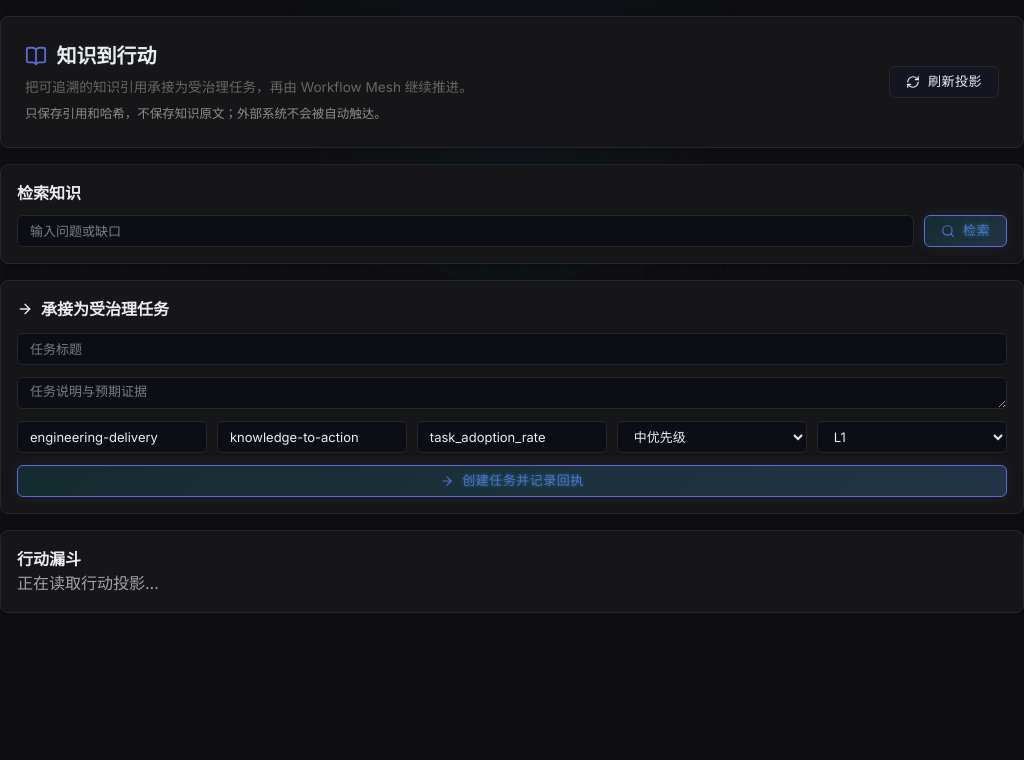
Test: KnowledgeActionView › does not pretend the receipt succeeded when persistence fails
Type "交付" into the field labelled "检索知识" at (466,231), box [17, 215, 914, 247]
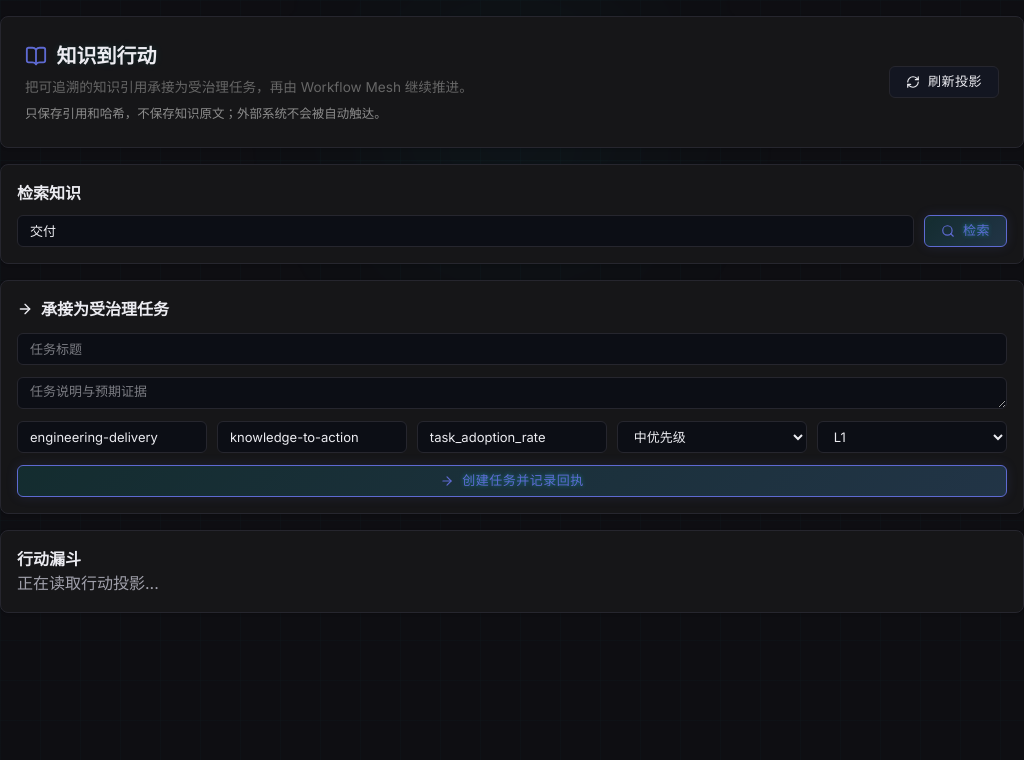
Click the button "检索" at (966,231), box [924, 215, 1007, 247]
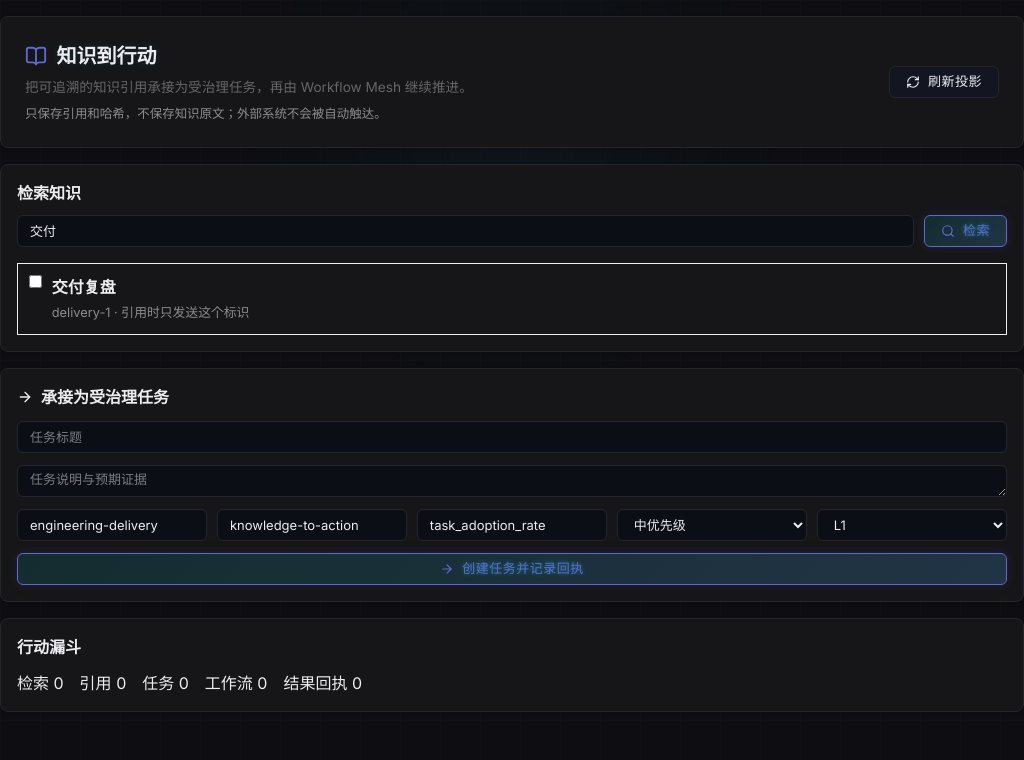
Check: the text "交付复盘" is shown, box [52, 277, 116, 297]
Click the checkbox at (36,281), box [29, 275, 42, 288]
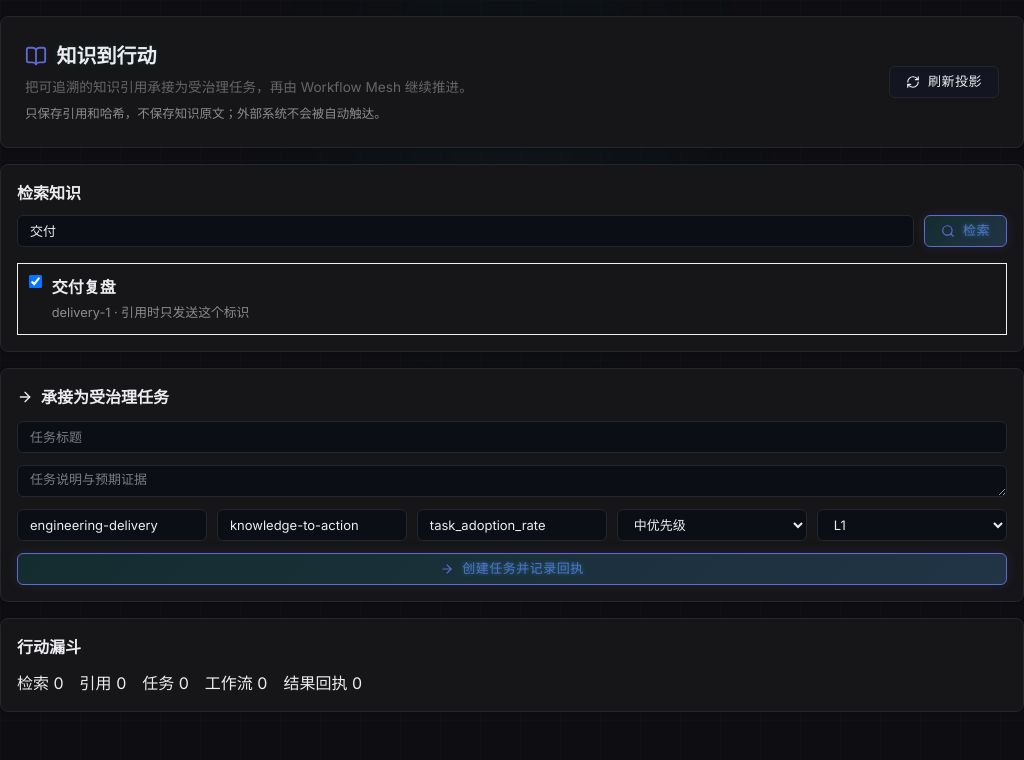
Type "任务已落盘" into the field labelled "任务标题" at (512,437), box [17, 421, 1007, 453]
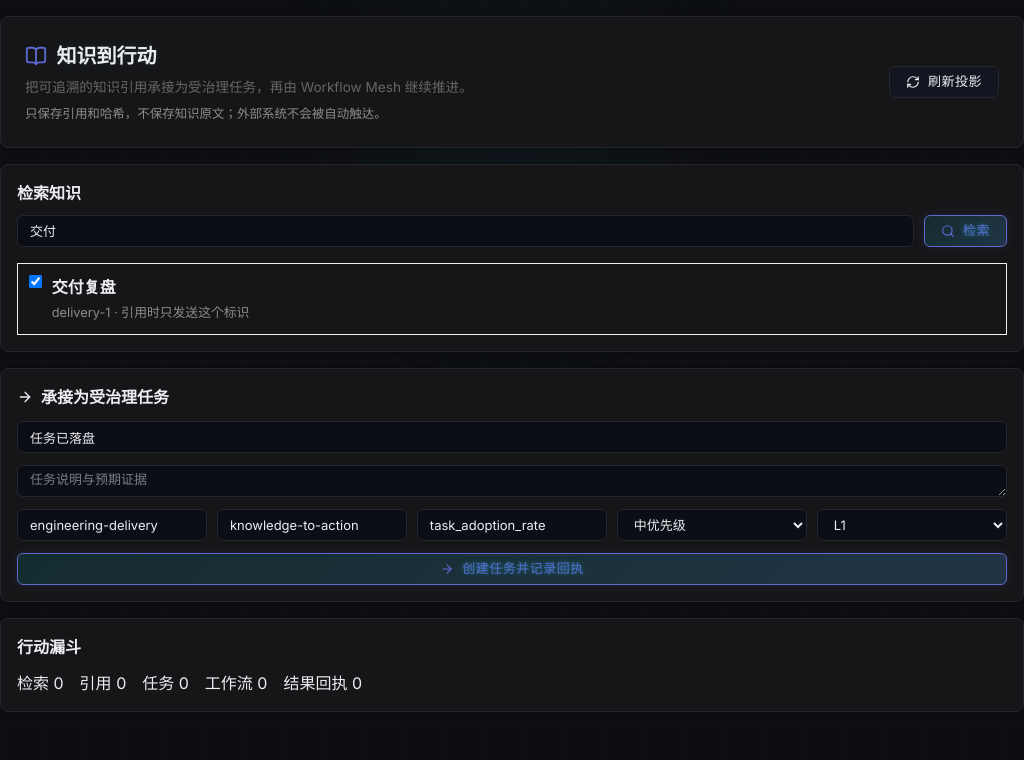
Type "等待回执重试。" into the text box labelled "任务说明" at (512,481), box [17, 465, 1007, 497]
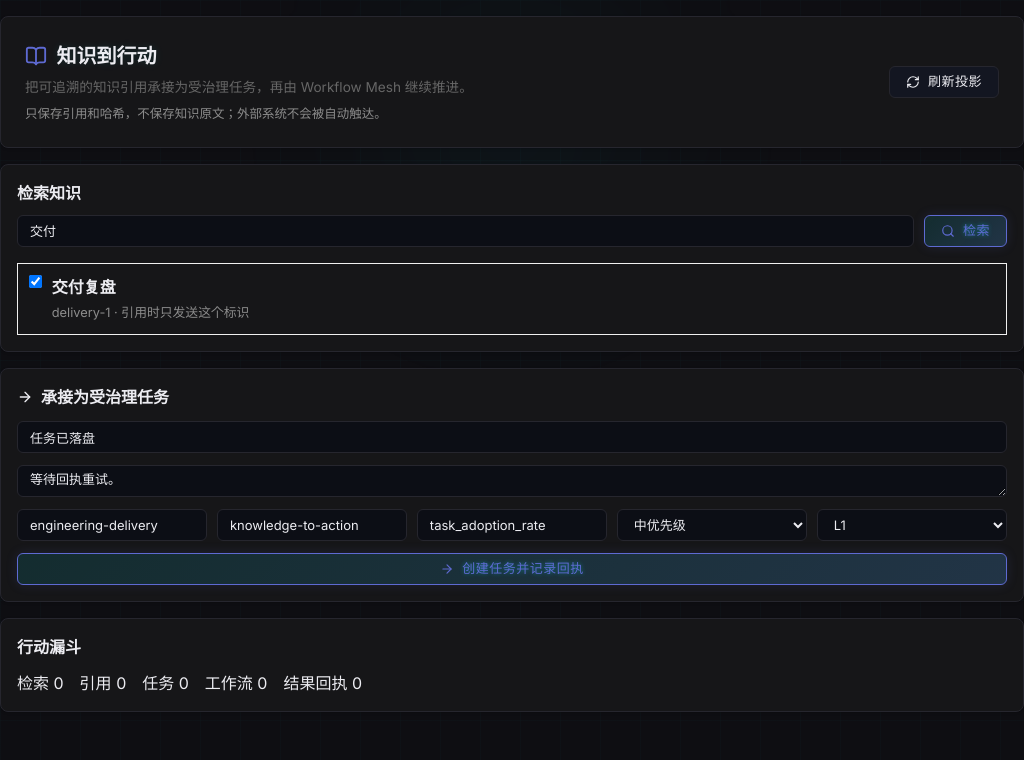
Click the button "创建任务并记录回执" at (512,569), box [17, 553, 1007, 585]
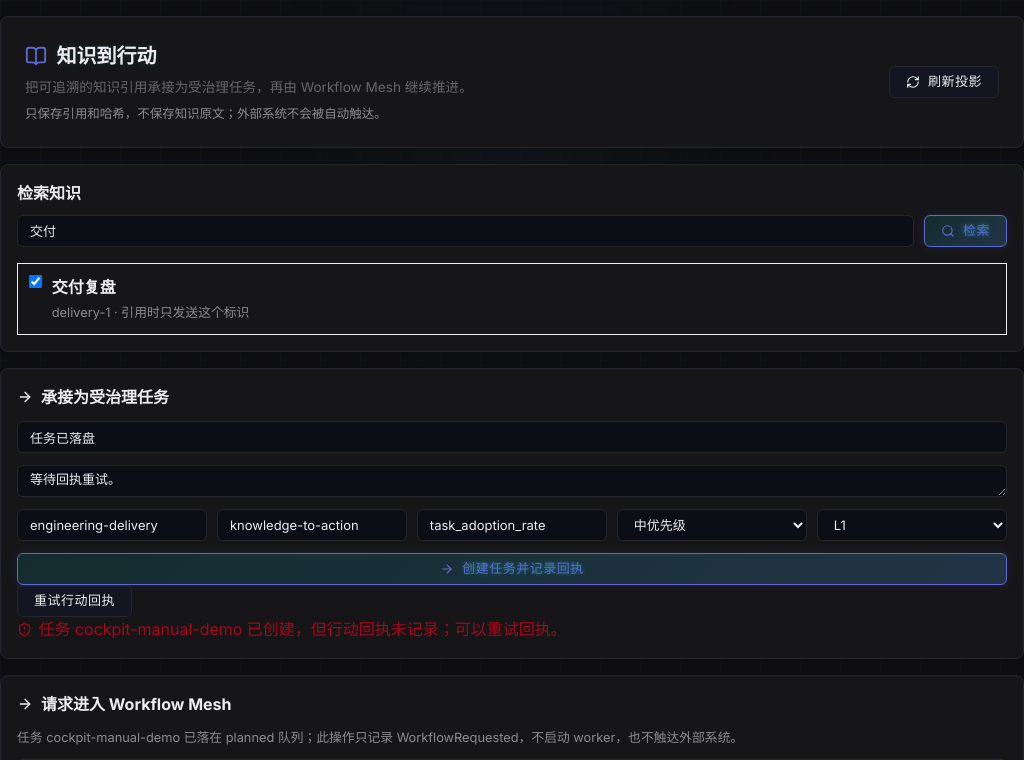
Check: the text "任务 cockpit-manual-demo 已创建，但行动回执未记录；可以重试回执。" is shown, box [17, 619, 567, 639]
Check: the button "重试行动回执" is shown, box [17, 585, 132, 617]
